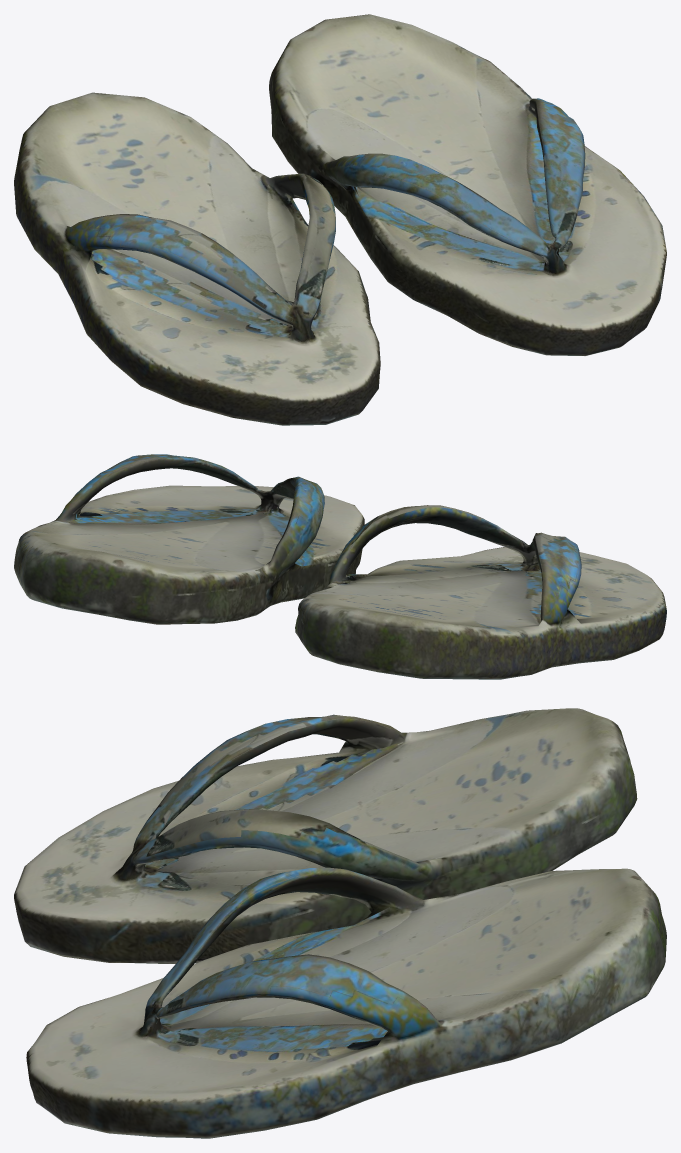
File: Ein Paar v9.glb
3 renders of one model, top to bottom at view 1: azimuth 30°, elevation 25°; view 2: azimuth 150°, elevation 25°; view 3: azimuth 270°, elevation 25°, orthographic. The views are drawn at different scales.
Visible parts, largest first — view 1: Mesh0; view 2: Mesh0; view 3: Mesh0.
Part boxes in pixels (box(x1,y1,x2,y2)): Mesh0: box(14, 14, 666, 425); Mesh0: box(14, 454, 666, 679); Mesh0: box(14, 708, 666, 1138).
Bounding box in the file's own units: 2 × 0.5588 × 1.7.
1 material, 1 textured.
